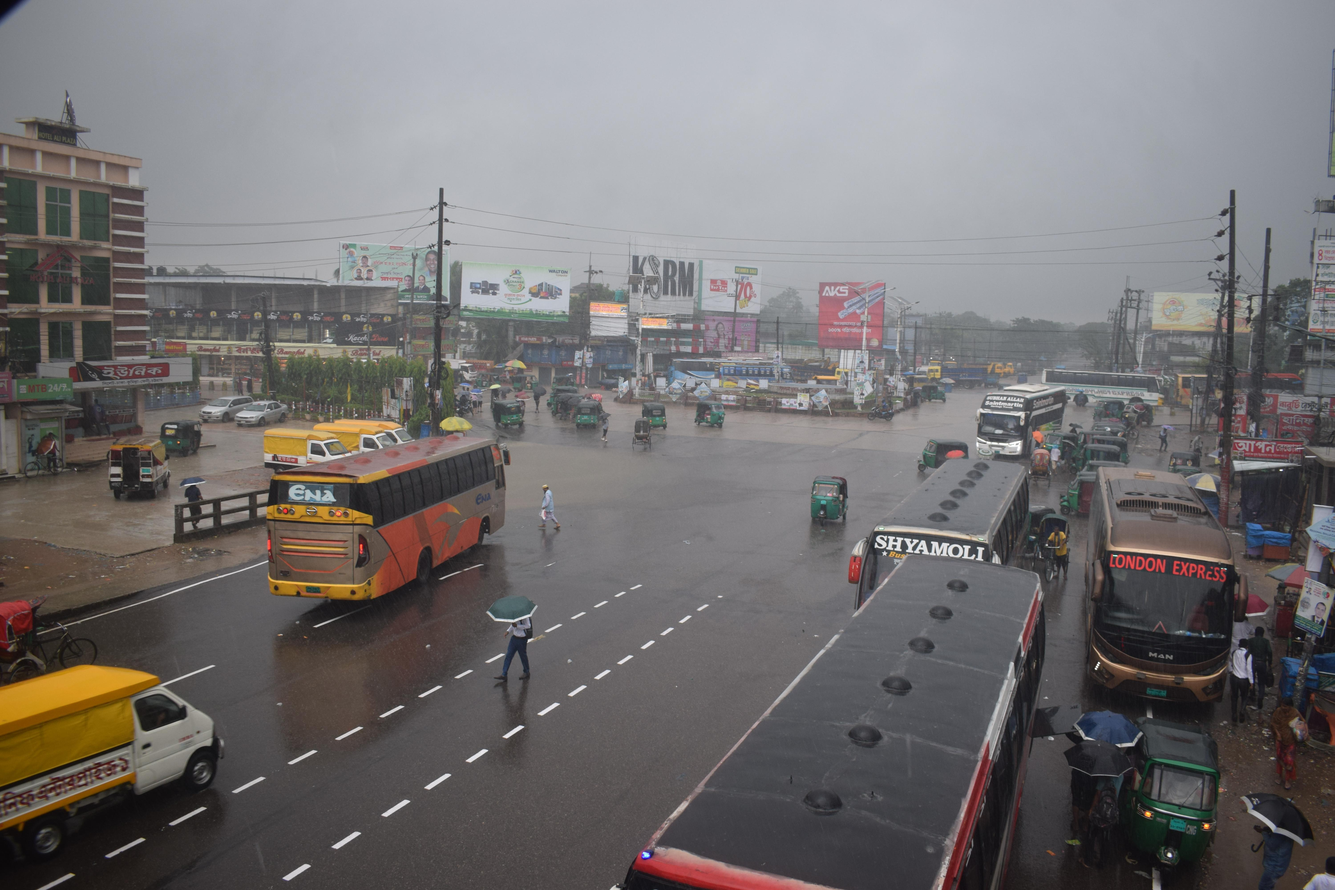Bus: (588, 544, 1083, 890), (248, 410, 523, 634), (1074, 446, 1270, 731), (832, 456, 1053, 611), (1032, 349, 1174, 439), (957, 366, 1076, 473), (706, 352, 790, 416)
Car: (0, 629, 260, 887), (252, 409, 366, 471), (88, 441, 168, 508), (1025, 505, 1080, 584), (220, 389, 285, 437), (193, 378, 255, 428), (624, 410, 670, 464)
